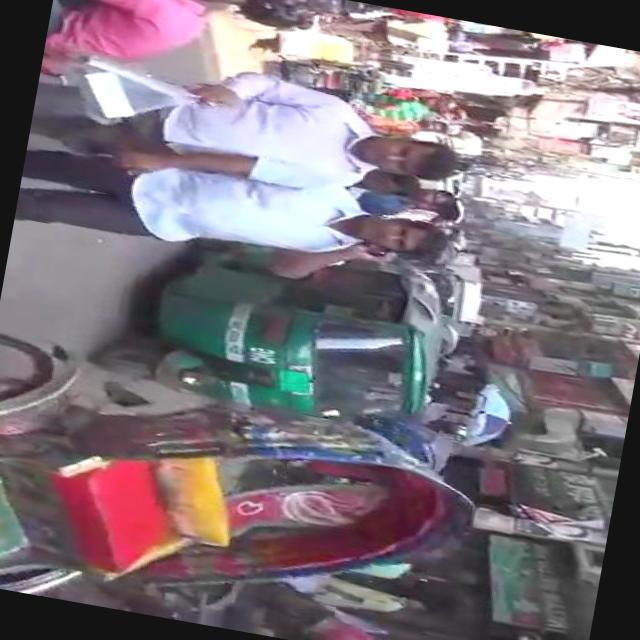motorcycle: (0, 329, 503, 640), (80, 209, 468, 450), (249, 45, 392, 103), (404, 192, 466, 230)
truck: (436, 263, 489, 327)
